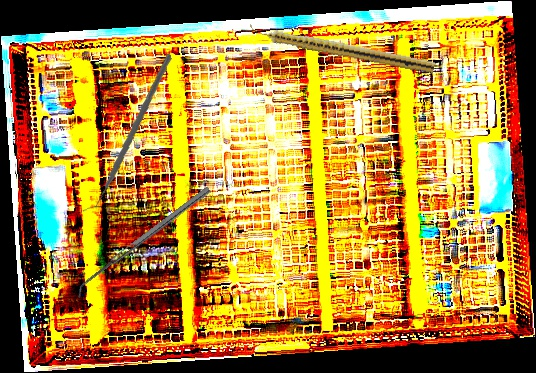Chopper: (66, 52, 187, 213)
Handpiece: (247, 22, 436, 74)
Spatula Surgical: (72, 186, 215, 299)
